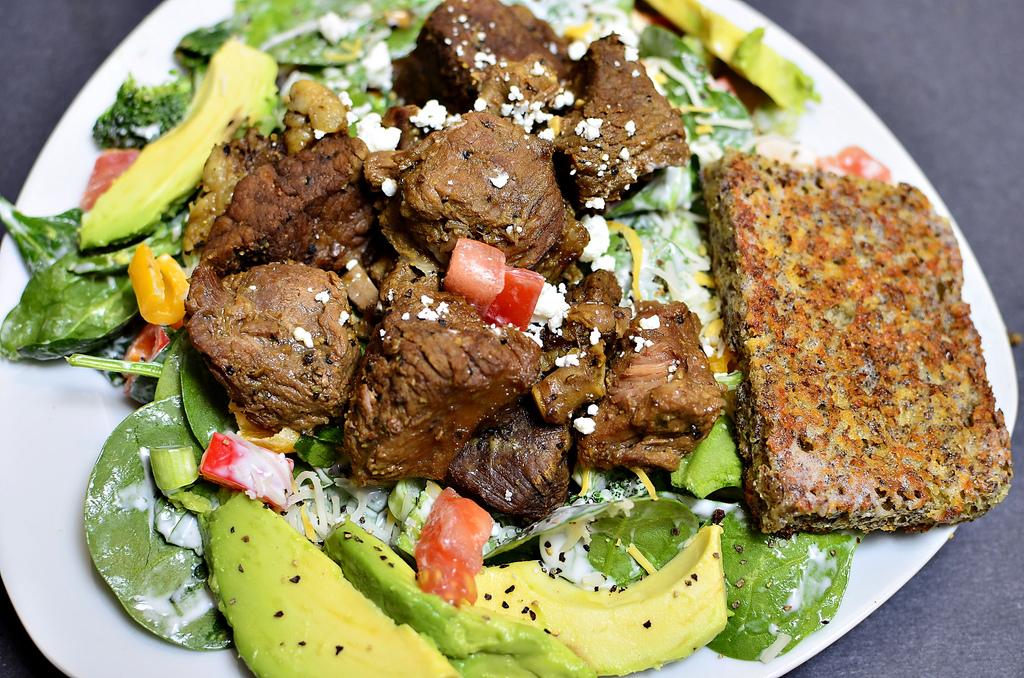chopped lettuce: (57, 249, 278, 641), (584, 486, 856, 644), (203, 9, 408, 114)
meatballs: (340, 275, 490, 477), (398, 119, 570, 264), (198, 264, 339, 411), (198, 153, 398, 250), (564, 52, 681, 193), (433, 12, 566, 118)
